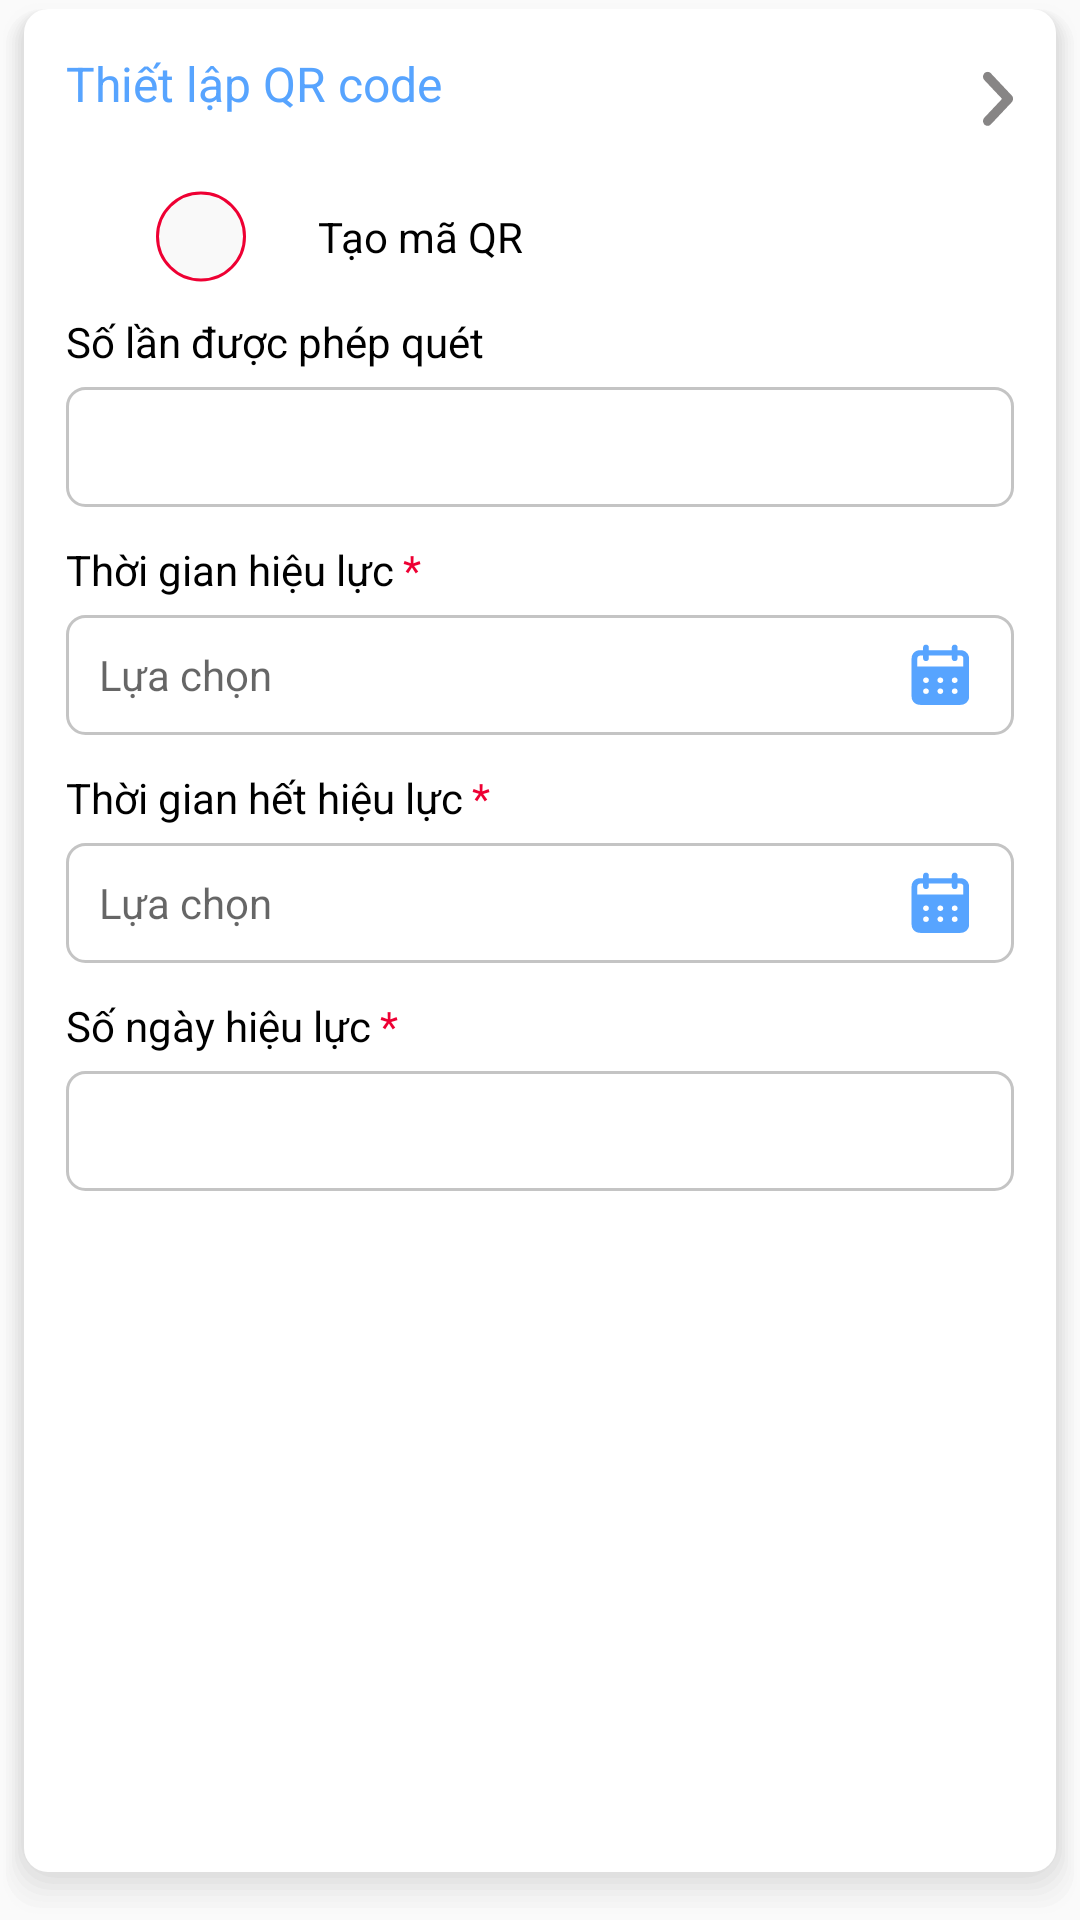

Named icons in this screenshot (1080 × 1920) and their bounding boxes, [x1,y1,x2,y2]:
check box: [156,191,246,282]
